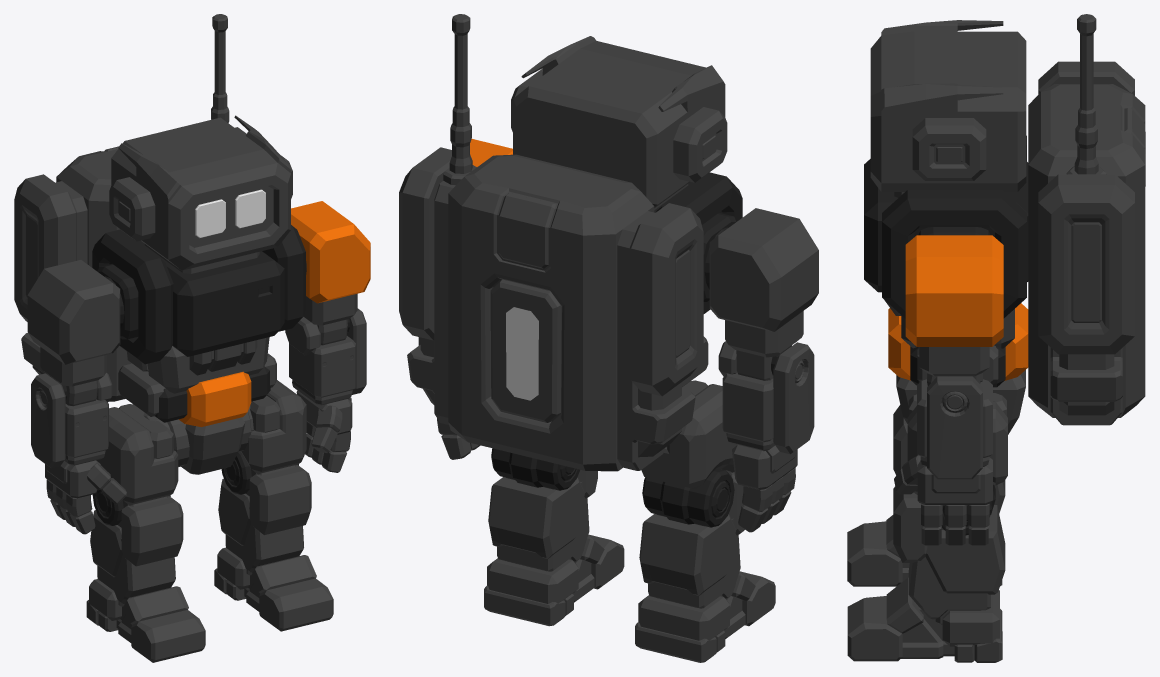
File: player_tech (2).fbx
The picture shows the model from 3 angles, left to right: view 1: azimuth 30°, elevation 25°; view 2: azimuth 150°, elevation 25°; view 3: azimuth 270°, elevation 25°; orthographic projection. The views are drawn at different scales.
Visible parts, largest first — view 1: Cube.045, Cube.021, Cube.047, Cube.022, Cube.043, Cube.025, Cube.063, Cube.041, Cube.065, Cube.011, Cube.031, Cube.013 (+38 smaller); view 2: Cube.041, Cube.045, Cube.043, Cube.047, Cube.042, Cube.009, Cube.066, Cube.063, Cube.050, Cylinder.003, Cube.052, Cube.046 (+18 smaller); view 3: Cube.045, Cube.043, Cube.041, Cube.025, Cube.022, Cube.029, Cube.046, Cube.009, Cube.042, Cube.001, Cube.074, Cylinder.002 (+23 smaller).
Boxes of the visible parts, <box> form: Cube.045: <box>111,115,290,270</box>; Cube.021: <box>138,240,284,356</box>; Cube.047: <box>27,260,120,364</box>; Cube.022: <box>92,225,305,364</box>; Cube.043: <box>14,127,246,321</box>; Cube.025: <box>291,201,370,303</box>; Cube.063: <box>96,407,178,505</box>; Cube.041: <box>56,146,131,401</box>; Cube.065: <box>121,496,183,566</box>; Cube.011: <box>249,465,311,534</box>; Cube.031: <box>289,336,355,405</box>; Cube.013: <box>241,380,306,474</box>; Cube.041: <box>448,154,654,471</box>; Cube.045: <box>513,36,725,207</box>; Cube.043: <box>399,147,703,396</box>; Cube.047: <box>709,208,818,331</box>; Cube.042: <box>407,181,695,470</box>; Cube.009: <box>488,477,584,558</box>; Cube.066: <box>639,514,735,595</box>; Cube.063: <box>641,384,736,489</box>; Cube.050: <box>718,341,814,454</box>; Cylinder.003: <box>642,469,734,527</box>; Cube.052: <box>722,373,774,451</box>; Cube.046: <box>511,68,727,182</box>; Cube.045: <box>870,20,1026,191</box>; Cube.043: <box>1038,61,1134,354</box>; Cube.041: <box>1028,84,1145,417</box>; Cube.025: <box>905,235,1003,346</box>; Cube.022: <box>882,135,1026,318</box>; Cube.029: <box>927,372,982,479</box>; Cube.046: <box>912,118,986,180</box>; Cube.009: <box>925,505,1005,594</box>; Cube.042: <box>1050,348,1122,425</box>; Cube.001: <box>847,596,902,661</box>; Cube.074: <box>847,521,902,586</box>; Cylinder.002: <box>1066,14,1106,174</box>.
Bounding box in the file's own units: 213 × 346 × 147.
2 materials, 1 textured.
